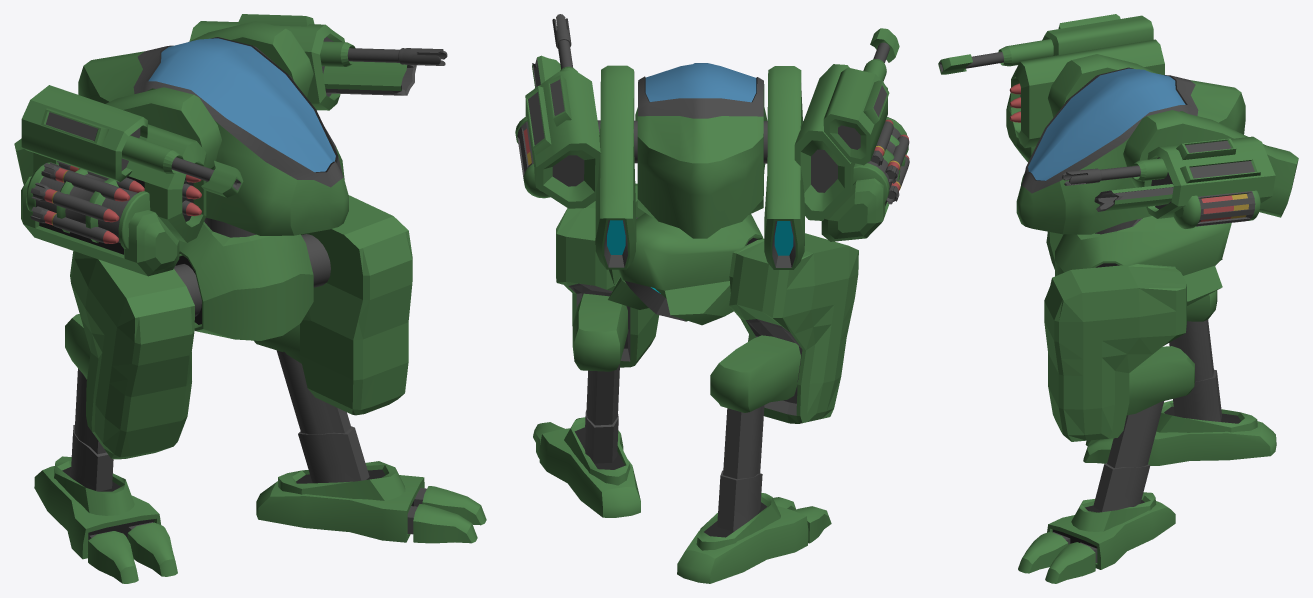
Rendered from MechInpose.fbx.
The picture shows the model from 3 angles, left to right: view 1: azimuth 30°, elevation 25°; view 2: azimuth 150°, elevation 25°; view 3: azimuth 270°, elevation 25°; orthographic projection. The views are drawn at different scales.
Parts seen in each view (by area): view 1: Cockpit, R_leg_upper, L_leg_upper, Hip, Sniper_rifle, L_foot, Rocket_loader, R_foot, L_leg_lower, Rocket_ammo_storage, R_arm, R_thruster (+13 smaller); view 2: Cockpit, R_leg_upper, Hip, L_thruster, R_thruster, L_arm, R_foot, L_leg_upper, Sniper_rifle, L_foot, R_leg_middle, R_arm (+11 smaller); view 3: L_leg_upper, Cockpit, Hip, R_foot, Sniper_rifle, L_thruster, L_foot, R_arm, L_arm, L_leg_lower, L_leg_middle, R_leg_lower (+11 smaller).
Boxes of the visible parts, x1,y1,x2,y2 form: Cockpit: (78, 37, 348, 235); R_leg_upper: (70, 251, 194, 459); L_leg_upper: (300, 195, 412, 415); Hip: (175, 221, 313, 340); Sniper_rifle: (21, 85, 243, 197); L_foot: (256, 461, 424, 542); Rocket_loader: (26, 161, 150, 248); R_foot: (34, 456, 160, 559); L_leg_lower: (276, 350, 369, 483); Rocket_ammo_storage: (21, 176, 179, 276); R_arm: (33, 124, 206, 242); R_thruster: (14, 87, 221, 184); Cockpit: (635, 63, 767, 238); R_leg_upper: (729, 233, 858, 423); Hip: (608, 213, 763, 325); L_thruster: (595, 65, 636, 269); R_thruster: (764, 66, 804, 269); L_arm: (525, 70, 600, 208); R_foot: (677, 492, 808, 583); L_leg_upper: (556, 183, 659, 367); Sniper_rifle: (823, 28, 899, 165); L_foot: (539, 417, 640, 517); R_leg_middle: (710, 335, 800, 412); R_arm: (794, 64, 854, 220); L_leg_upper: (1044, 264, 1186, 441); Cockpit: (1016, 67, 1245, 234); Hip: (1055, 216, 1231, 305); R_foot: (1148, 400, 1276, 465); Sniper_rifle: (938, 14, 1153, 74); L_thruster: (1123, 110, 1298, 217); L_foot: (1047, 492, 1175, 569); R_arm: (1011, 39, 1164, 147); L_arm: (1143, 136, 1275, 218); L_leg_lower: (1093, 401, 1163, 511); L_leg_middle: (1127, 346, 1194, 415); R_leg_lower: (1169, 319, 1221, 421).
Bounding box in the file's own units: 8.85 × 9.72 × 7.73.
